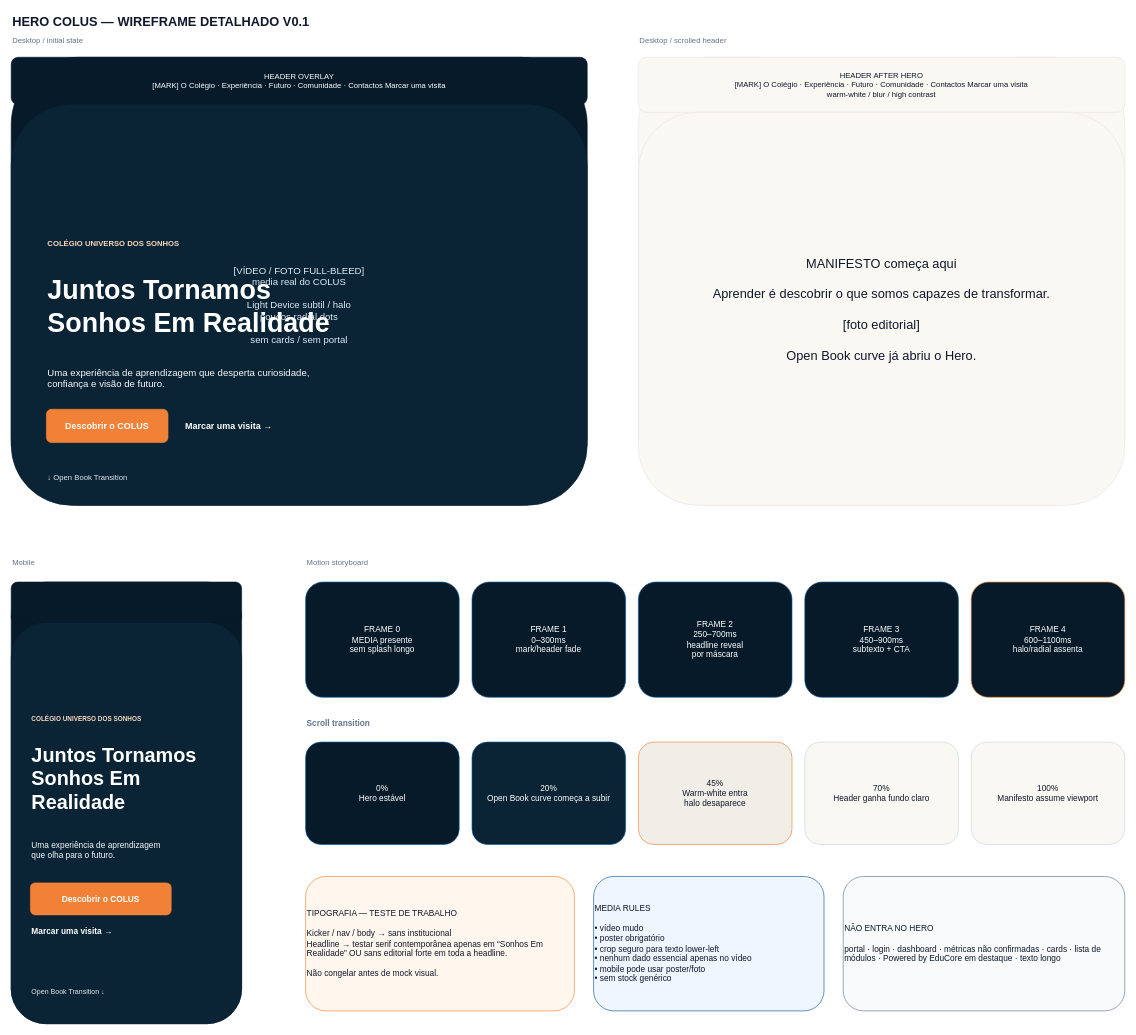
The diagram is 1136 pixels wide and 1035 high, and some of its shapes have lost their labels. The box of each missing label's shape, as (x1, y1, x2, y2) in pixels:
[MARK] [☰]: (11, 581, 242, 623)
[MEDIA VERTICAL] poster / vídeo leve Light Device muito subtil: (11, 622, 242, 1024)
